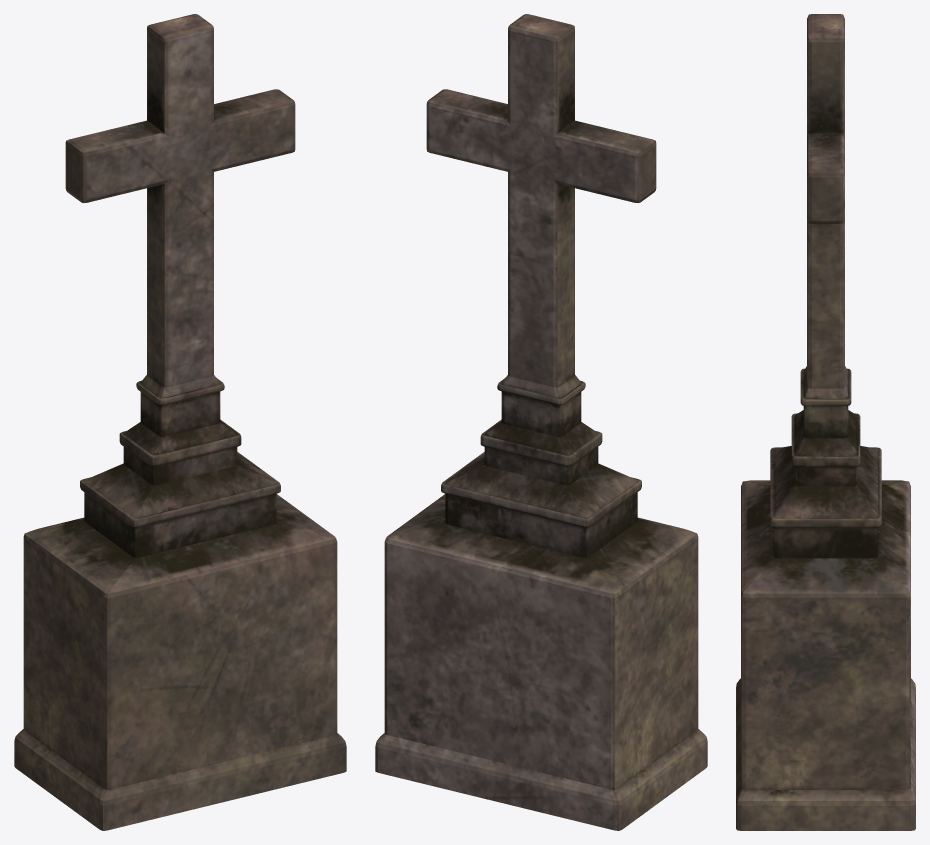
Rendered from SM_gravestone_21.fbx.
3 renders of one model, left to right at view 1: azimuth 30°, elevation 25°; view 2: azimuth 150°, elevation 25°; view 3: azimuth 270°, elevation 25°, orthographic.
Visible parts, largest first — view 1: SM_gravestone_021; view 2: SM_gravestone_021; view 3: SM_gravestone_021.
Boxes of the visible parts, x1,y1,x2,y2 form: SM_gravestone_021: (14,14,346,830); SM_gravestone_021: (375,14,707,830); SM_gravestone_021: (736,14,915,830).
Bounding box in the file's own units: 22.22 × 64.27 × 14.05.
